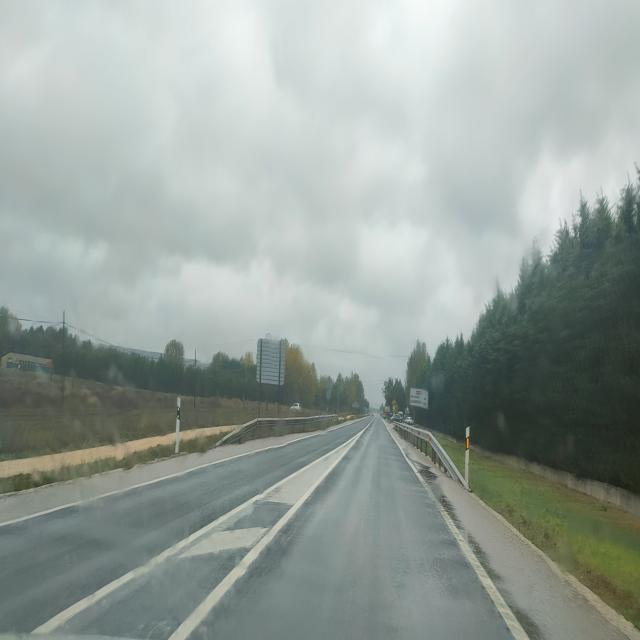Poth-hole: (404, 453, 546, 640)
